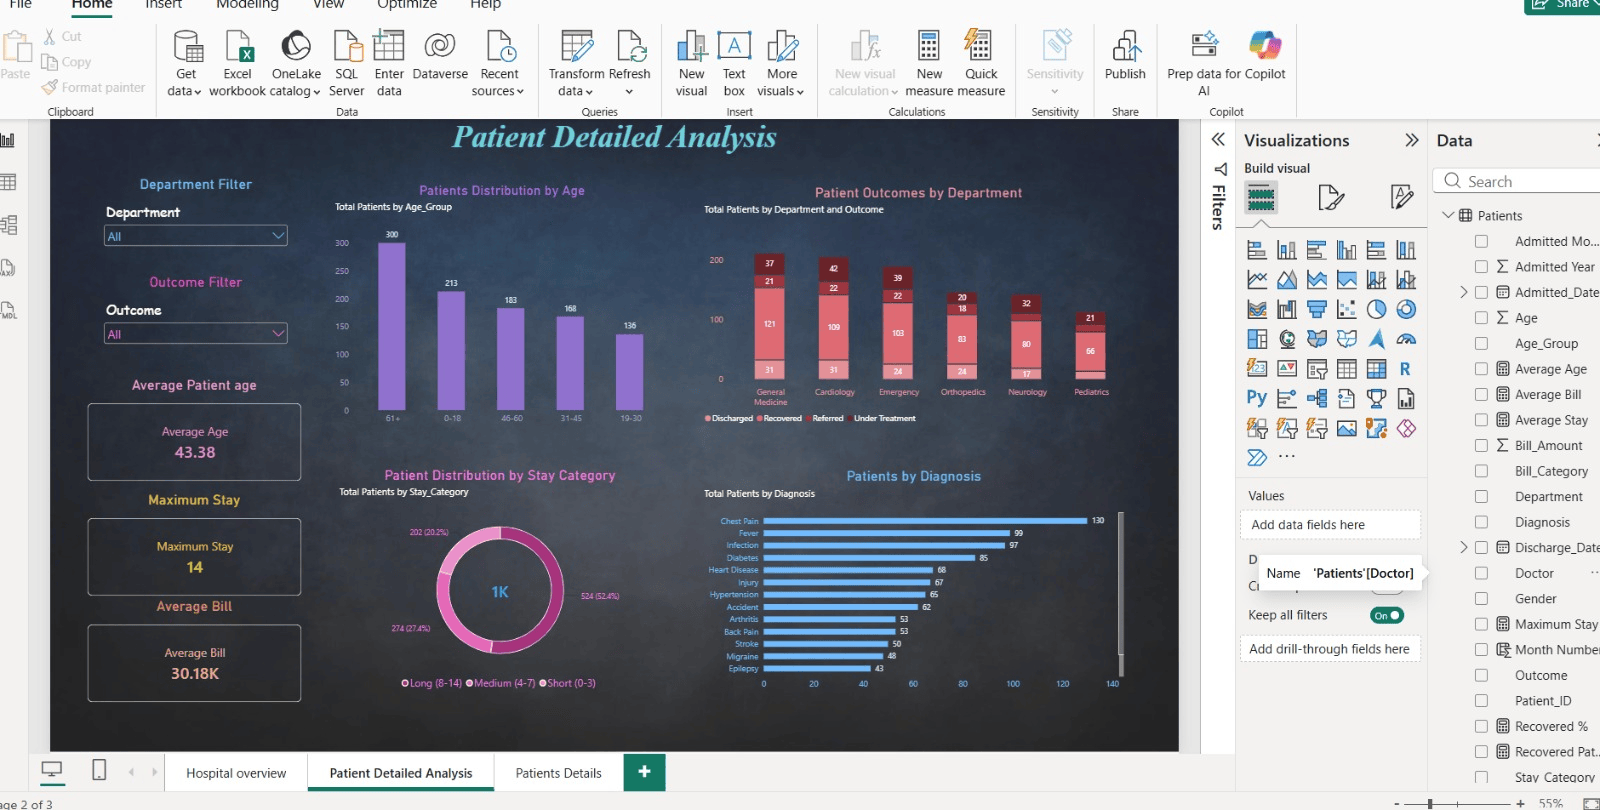

This screenshot's page, from the dashboard's own definition file:
{"tool":"powerbi","page":{"name":"Patient Detailed Analysis","canvas":[1920,1080],"ordinal":1},"visuals":[{"type":"cardVisual","title":"Average Patient age ","fields":{"Data":["Patients.Average Age"]},"box":[63.3,437.9,364,178],"z":0},{"type":"cardVisual","title":"Maximum Stay","fields":{"Data":["Patients.Maximum Stay"]},"box":[63.3,633.4,364,178],"z":1000},{"type":"cardVisual","title":"Average Bill","fields":{"Data":["Patients.Average Bill"]},"box":[63.3,814.3,364,178],"z":2000},{"type":"textbox","box":[0,0,1920,122],"z":3000},{"type":"clusteredColumnChart","title":"Patients Distribution by Age","fields":{"Category":["Patients.Age_Group"],"Y":["Patients.Total Patients"]},"box":[468.7,92.3,600.8,447],"z":4000},{"type":"columnChart","title":"Patient Outcomes by Department","fields":{"Category":["Patients.Department"],"Y":["Patients.Total Patients"],"Series":["Patients.Outcome"]},"box":[1096.7,95.9,761.9,443.4],"z":5000},{"type":"barChart","title":" Patients by Diagnosis","fields":{"Category":["Patients.Diagnosis"],"Y":["Patients.Total Patients"]},"box":[1096.7,579.1,745.6,412.6],"z":6000},{"type":"donutChart","title":"Patient Distribution by Stay Category","fields":{"Category":["Patients.Stay_Category"],"Y":["Patients.Total Patients"]},"box":[475.9,577.3,579.1,414.4],"z":7000},{"type":"slicer","title":"Department Filter","fields":{"Values":["Patients.Department"]},"box":[86.9,95.9,322.1,166.5],"z":8000},{"type":"slicer","title":"Outcome Filter ","fields":{"Values":["Patients.Outcome"]},"box":[86.9,262.4,322.1,153.8],"z":9000}]}

Visuals, with their boxes on the page's 1920x1080 design canvas (x1, y1, x2, y2). These are canvas units, not pixel positions in the 1600x810 screenshot, which may show the page scaled, cropped or inside an application window:
"Average Patient age " cardVisual: Rect(63, 438, 427, 616)
"Maximum Stay" cardVisual: Rect(63, 633, 427, 811)
"Average Bill" cardVisual: Rect(63, 814, 427, 992)
textbox: Rect(0, 0, 1920, 122)
"Patients Distribution by Age" clusteredColumnChart: Rect(469, 92, 1070, 539)
"Patient Outcomes by Department" columnChart: Rect(1097, 96, 1859, 539)
" Patients by Diagnosis" barChart: Rect(1097, 579, 1842, 992)
"Patient Distribution by Stay Category" donutChart: Rect(476, 577, 1055, 992)
"Department Filter" slicer: Rect(87, 96, 409, 262)
"Outcome Filter " slicer: Rect(87, 262, 409, 416)
